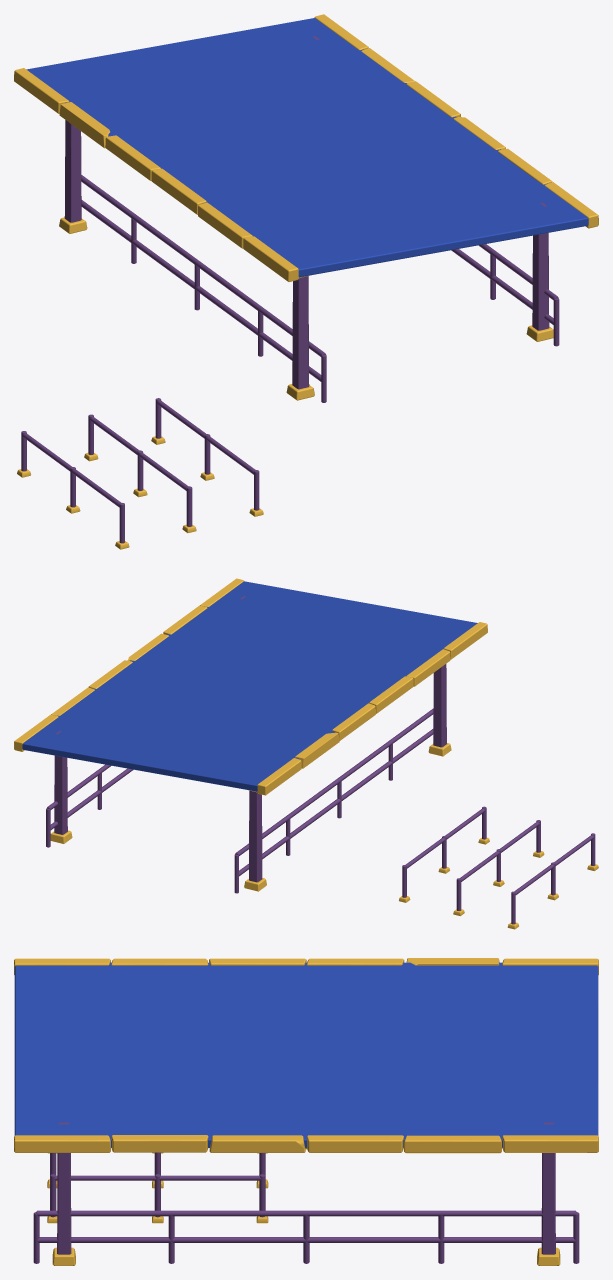
The model's file is station_roof.glb.
3 renders of one model, top to bottom at view 1: azimuth 30°, elevation 25°; view 2: azimuth 150°, elevation 25°; view 3: azimuth 270°, elevation 25°, orthographic. The views are drawn at different scales.
Visible parts, largest first — view 1: station_roof; view 2: station_roof; view 3: station_roof.
Boxes of the visible parts, x1,y1,x2,y2 form: station_roof: [14, 14, 598, 549]; station_roof: [14, 578, 598, 929]; station_roof: [14, 958, 598, 1265].
Bounding box in the file's own units: 10.36 × 5.41 × 10.62.
